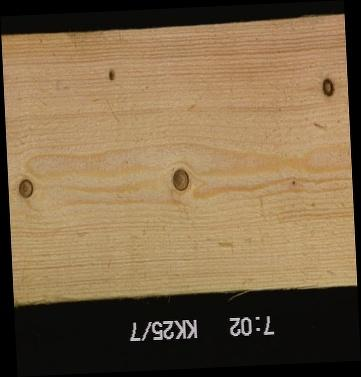dry_knot: (170, 166, 190, 192), (16, 177, 35, 200), (319, 76, 336, 98)
small_knot: (106, 68, 118, 83)
